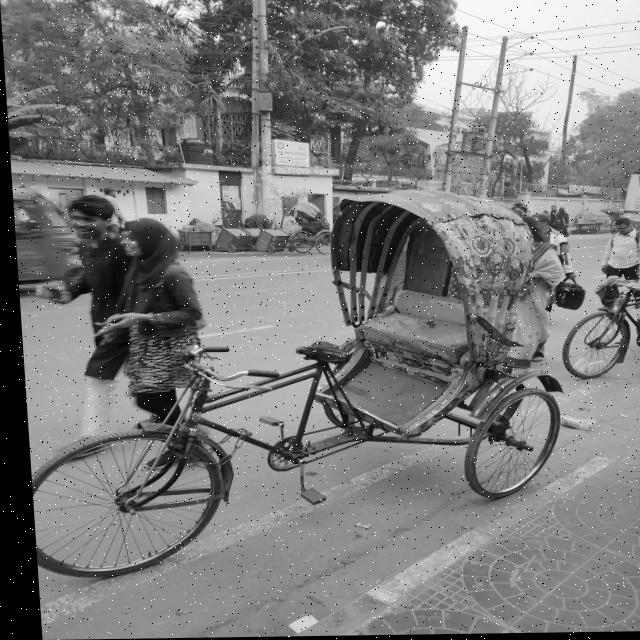rikshaw: (11, 198, 580, 598)
